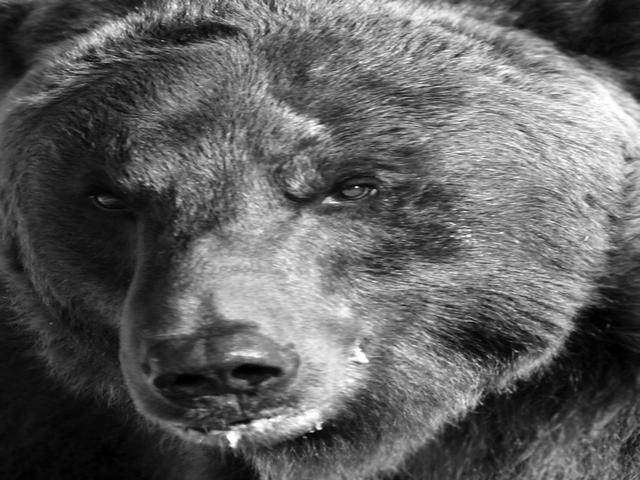Bear: (6, 8, 628, 467)
